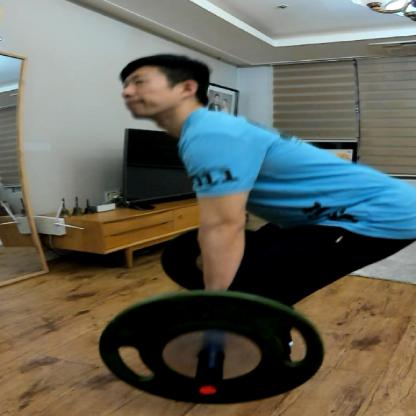Barbell: (91, 286, 329, 411)
